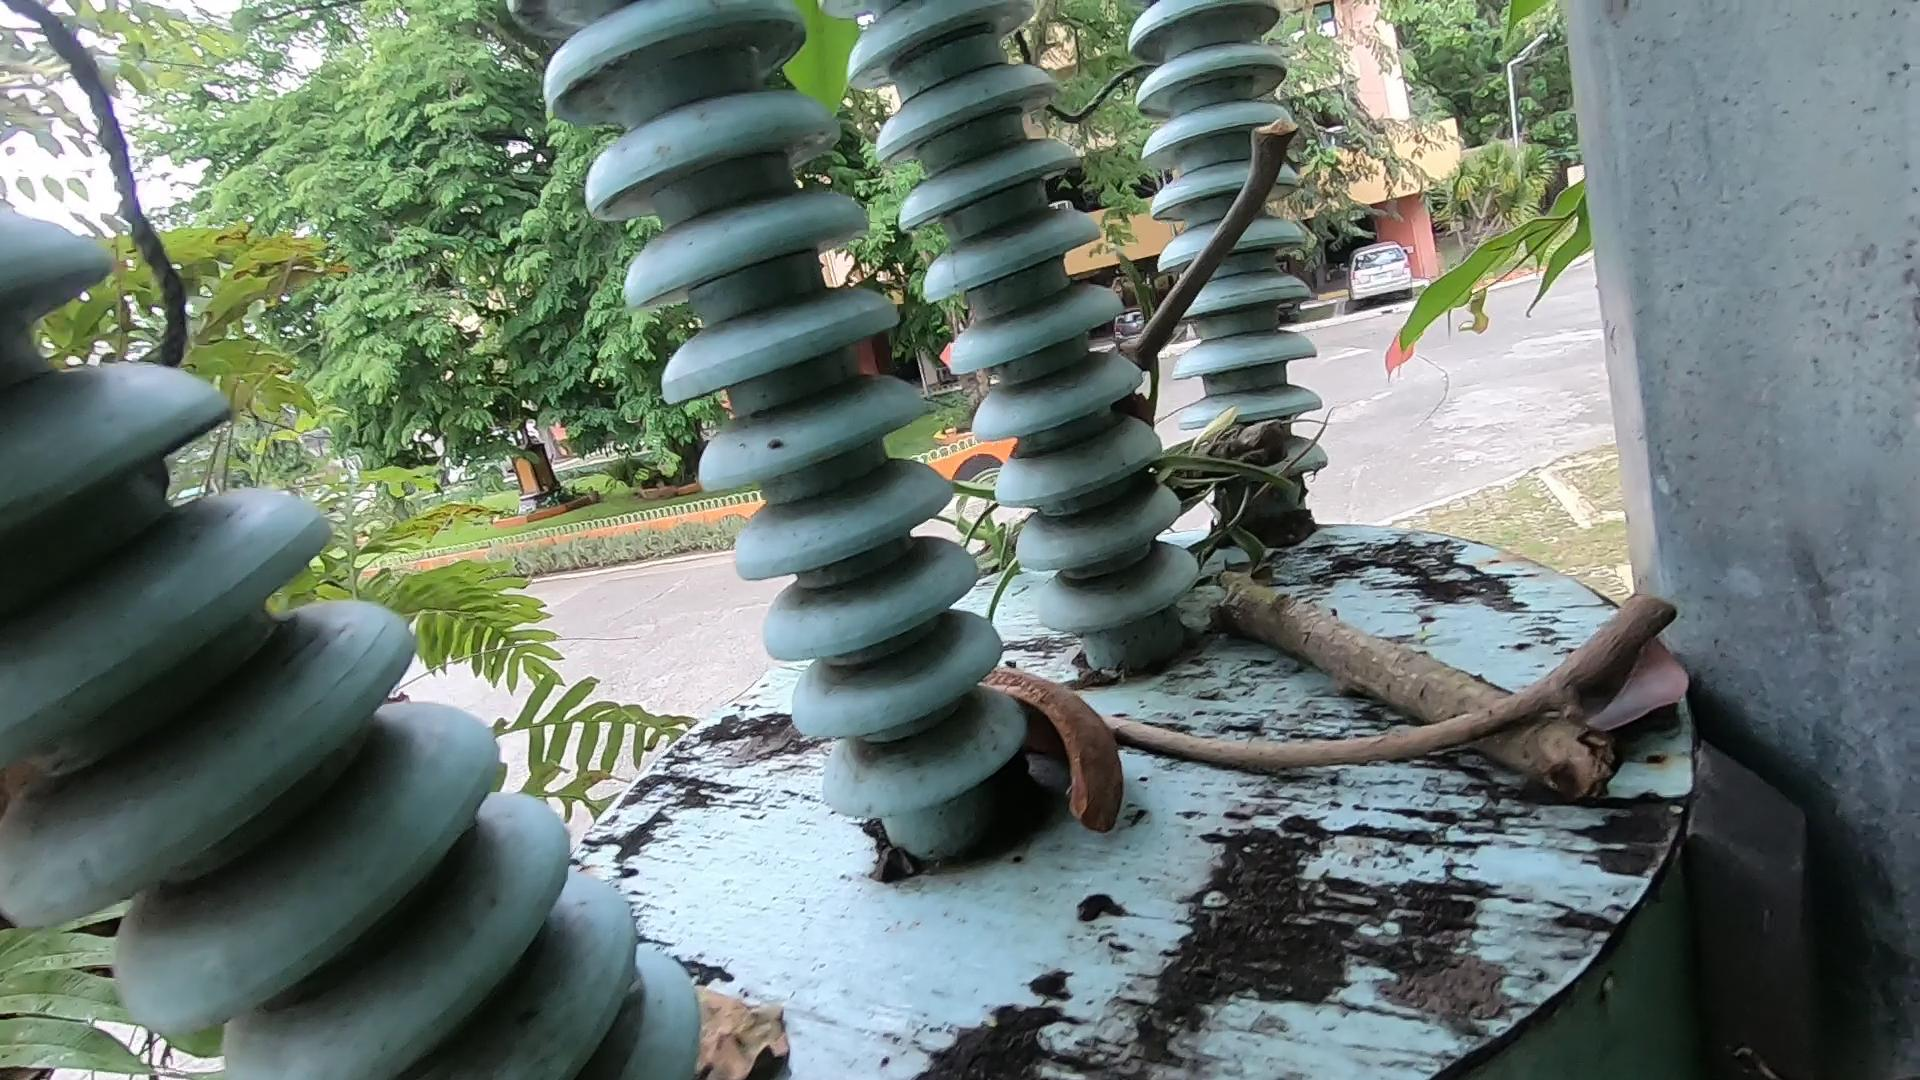leaf: (620, 926, 841, 1076), (1589, 599, 1743, 771)
tree branch: (1004, 348, 1894, 1013), (982, 618, 1841, 961), (1081, 92, 1320, 423)
